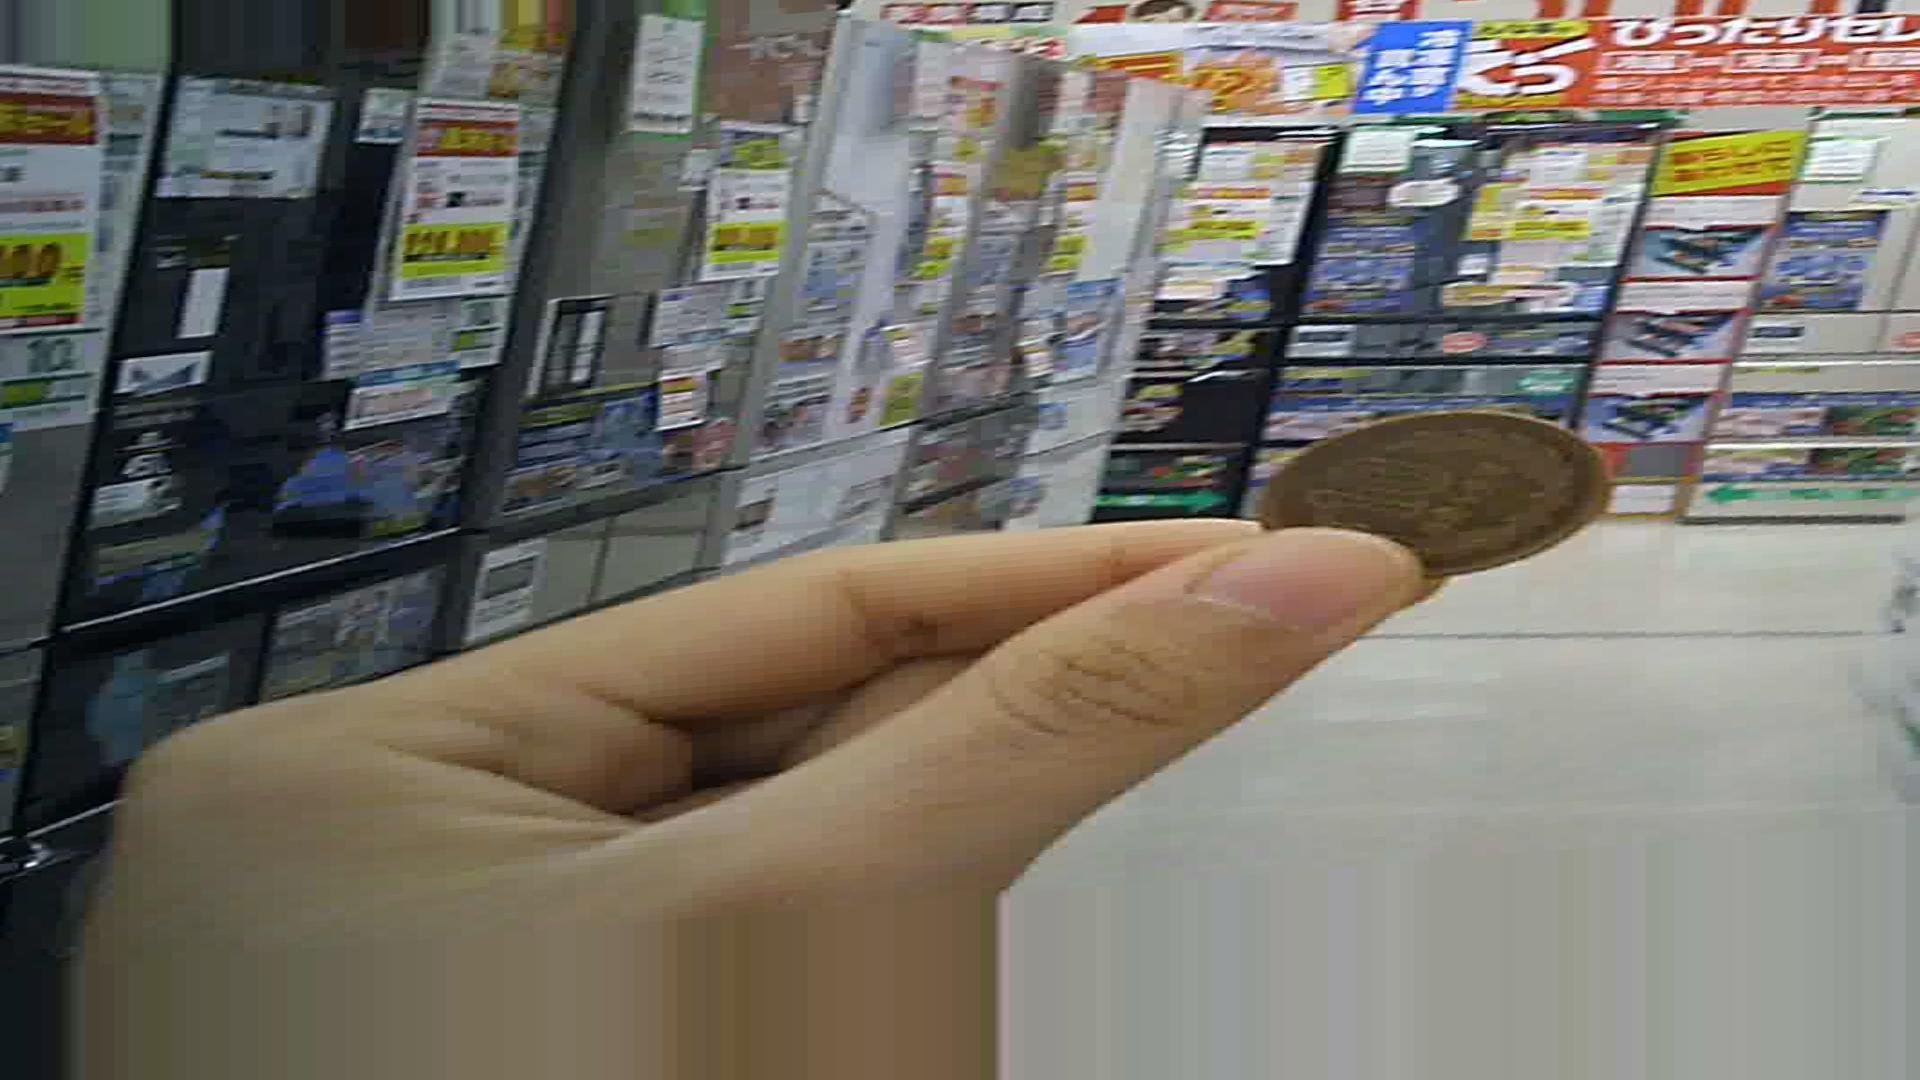10 Yen: (1263, 411, 1614, 582)
